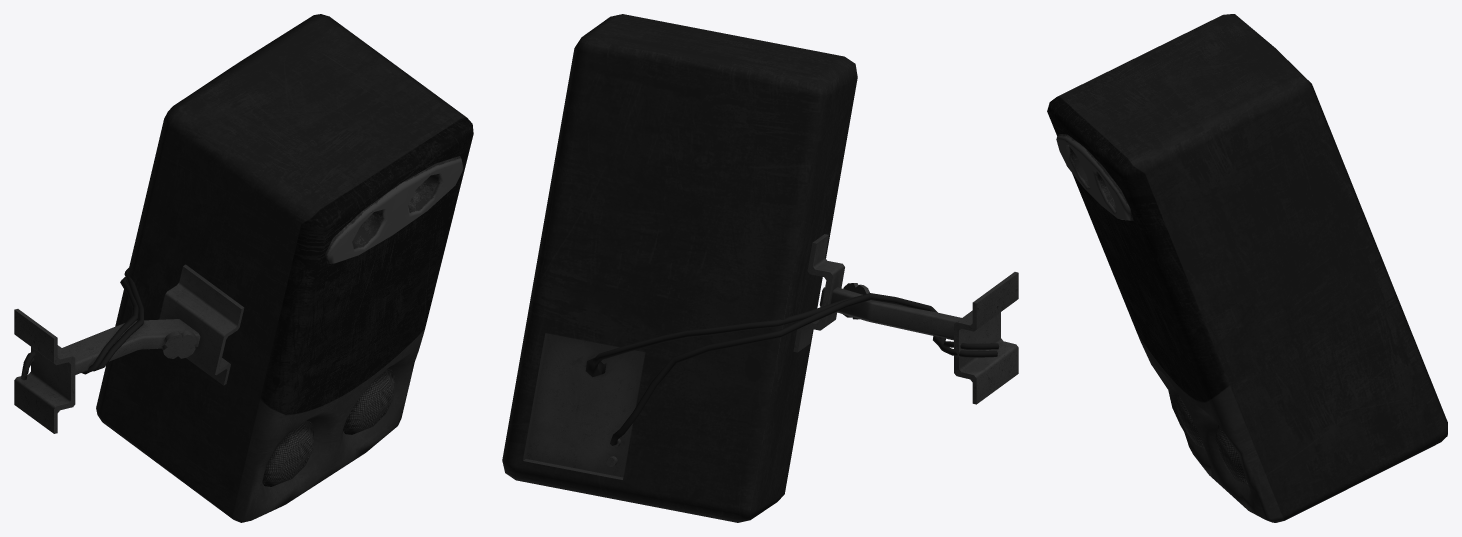
The model's file is SpeakerWall.FBX.
3 views of the same model, side by side, from view 1: azimuth 30°, elevation 25°; view 2: azimuth 150°, elevation 25°; view 3: azimuth 270°, elevation 25° (orthographic). The views are drawn at different scales.
Parts seen in each view (by area): view 1: SpeakerWall; view 2: SpeakerWall; view 3: SpeakerWall.
Boxes of the visible parts, x1,y1,x2,y2 form: SpeakerWall: [14, 14, 473, 522]; SpeakerWall: [502, 14, 1018, 522]; SpeakerWall: [1047, 14, 1447, 522].
Size of the model in its own units: 43.92 by 45.27 by 37.32.
